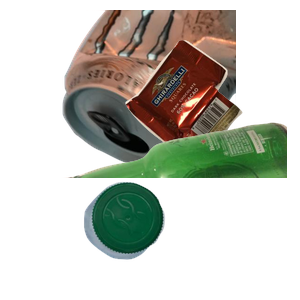glass: (60, 120, 300, 300)
metal: (60, 10, 300, 175)
plastic: (81, 179, 239, 300)
trash: (123, 37, 300, 192)
